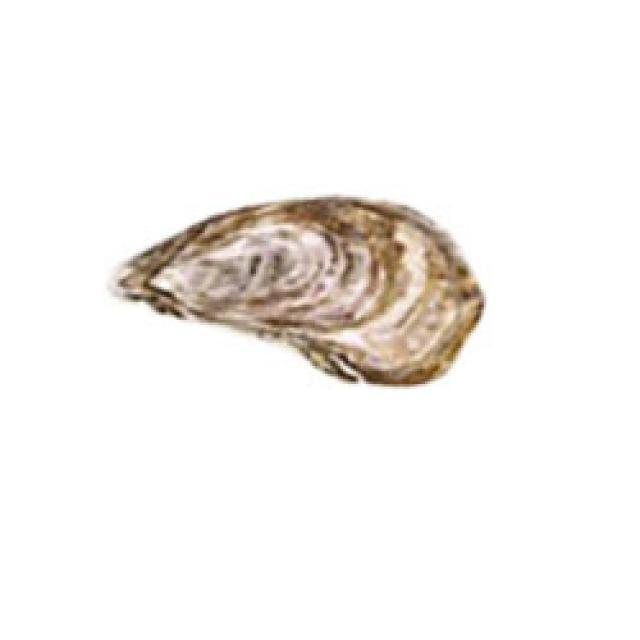Oyster- Indeterminate: (102, 190, 492, 394)
